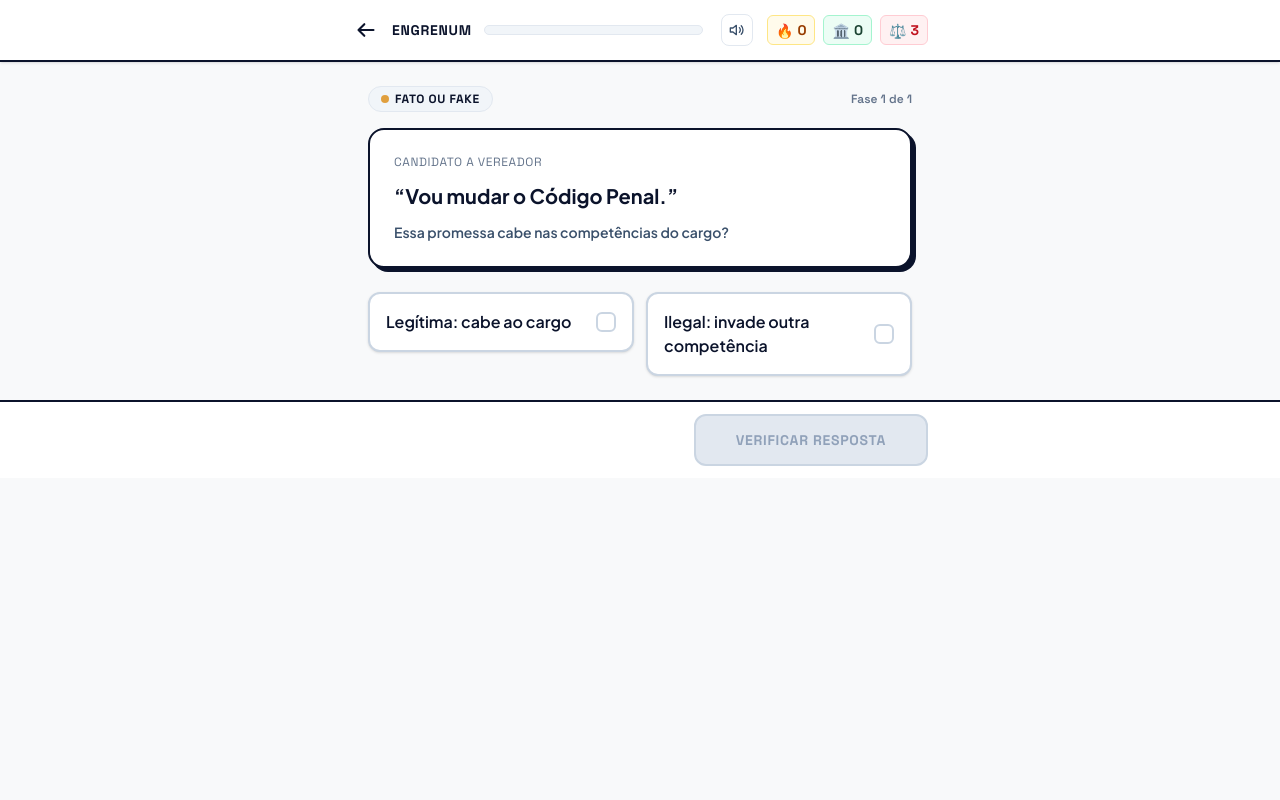
Test: EngrenumQuiz › mixed mechanics › plays a Fato ou Fake promise as a legitimate/illegal verdict
The width and height of the screenshot is (1280, 800).
expect the text "Fato ou Fake" is shown: met, box top-left (368, 86), bottom-right (493, 112)
expect the text "Candidato a Vereador" is shown: met, box top-left (394, 154), bottom-right (542, 170)
Click the button "Legítima: cabe ao cargo". click: click(501, 322)
box: top-left (368, 292), bottom-right (634, 352)
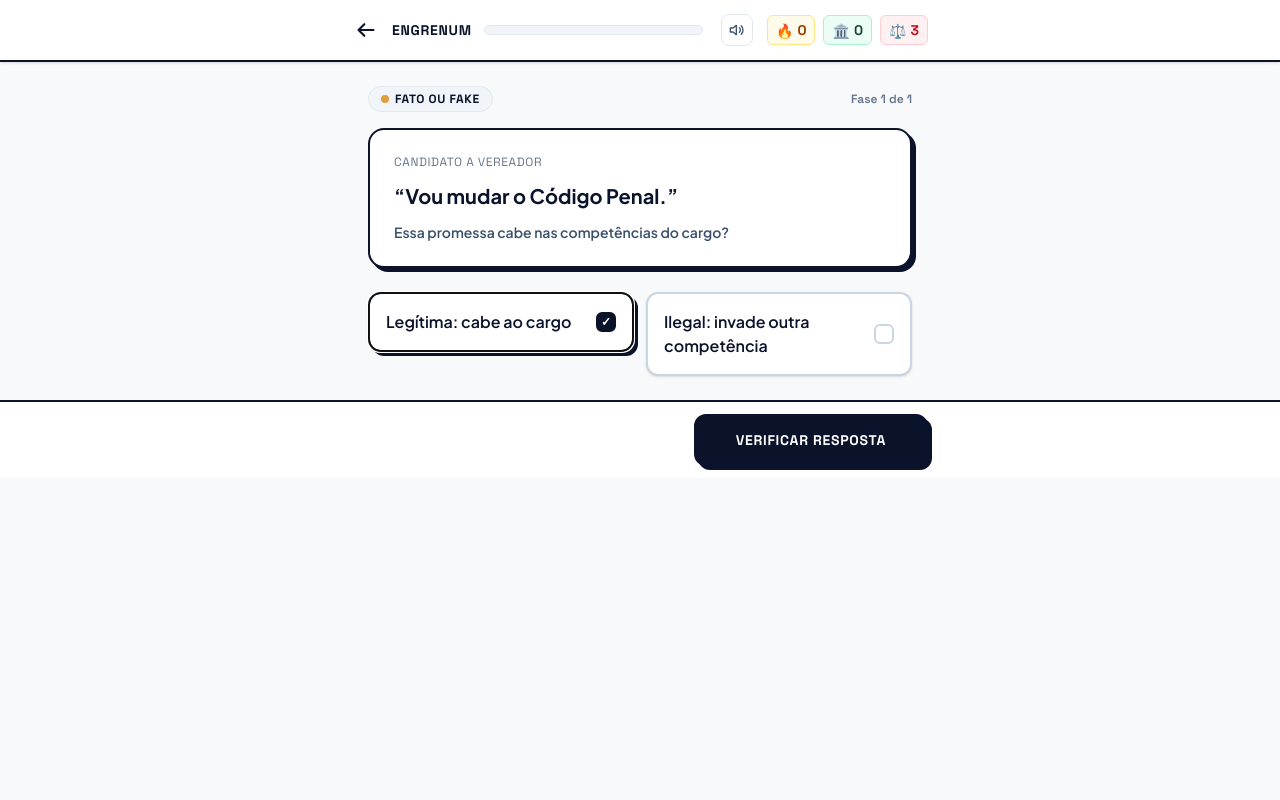
Click the button "Verificar Resposta". click: click(811, 440)
box: top-left (694, 414), bottom-right (928, 466)
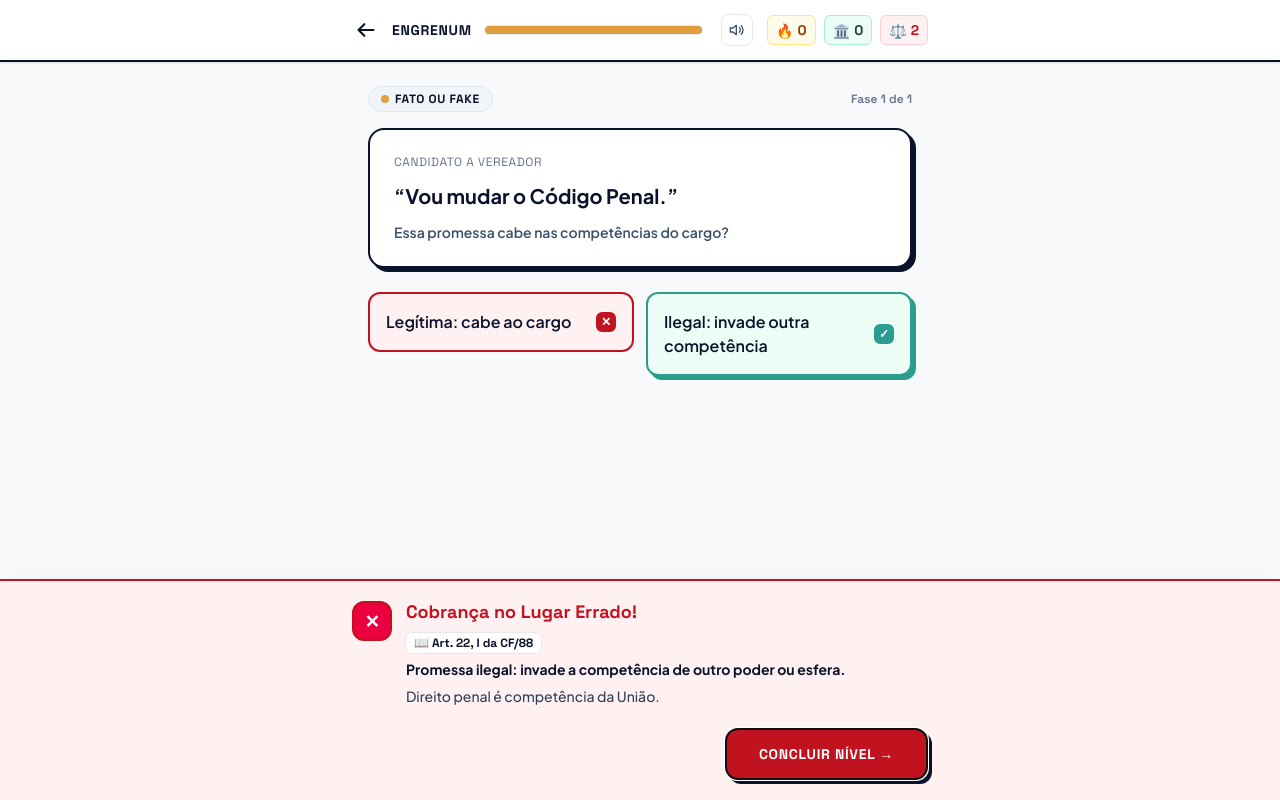
expect the message shows "Art. 22, I da CF/88": met, box top-left (432, 635), bottom-right (533, 651)
